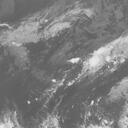cyclone: (48, 52, 97, 101)
